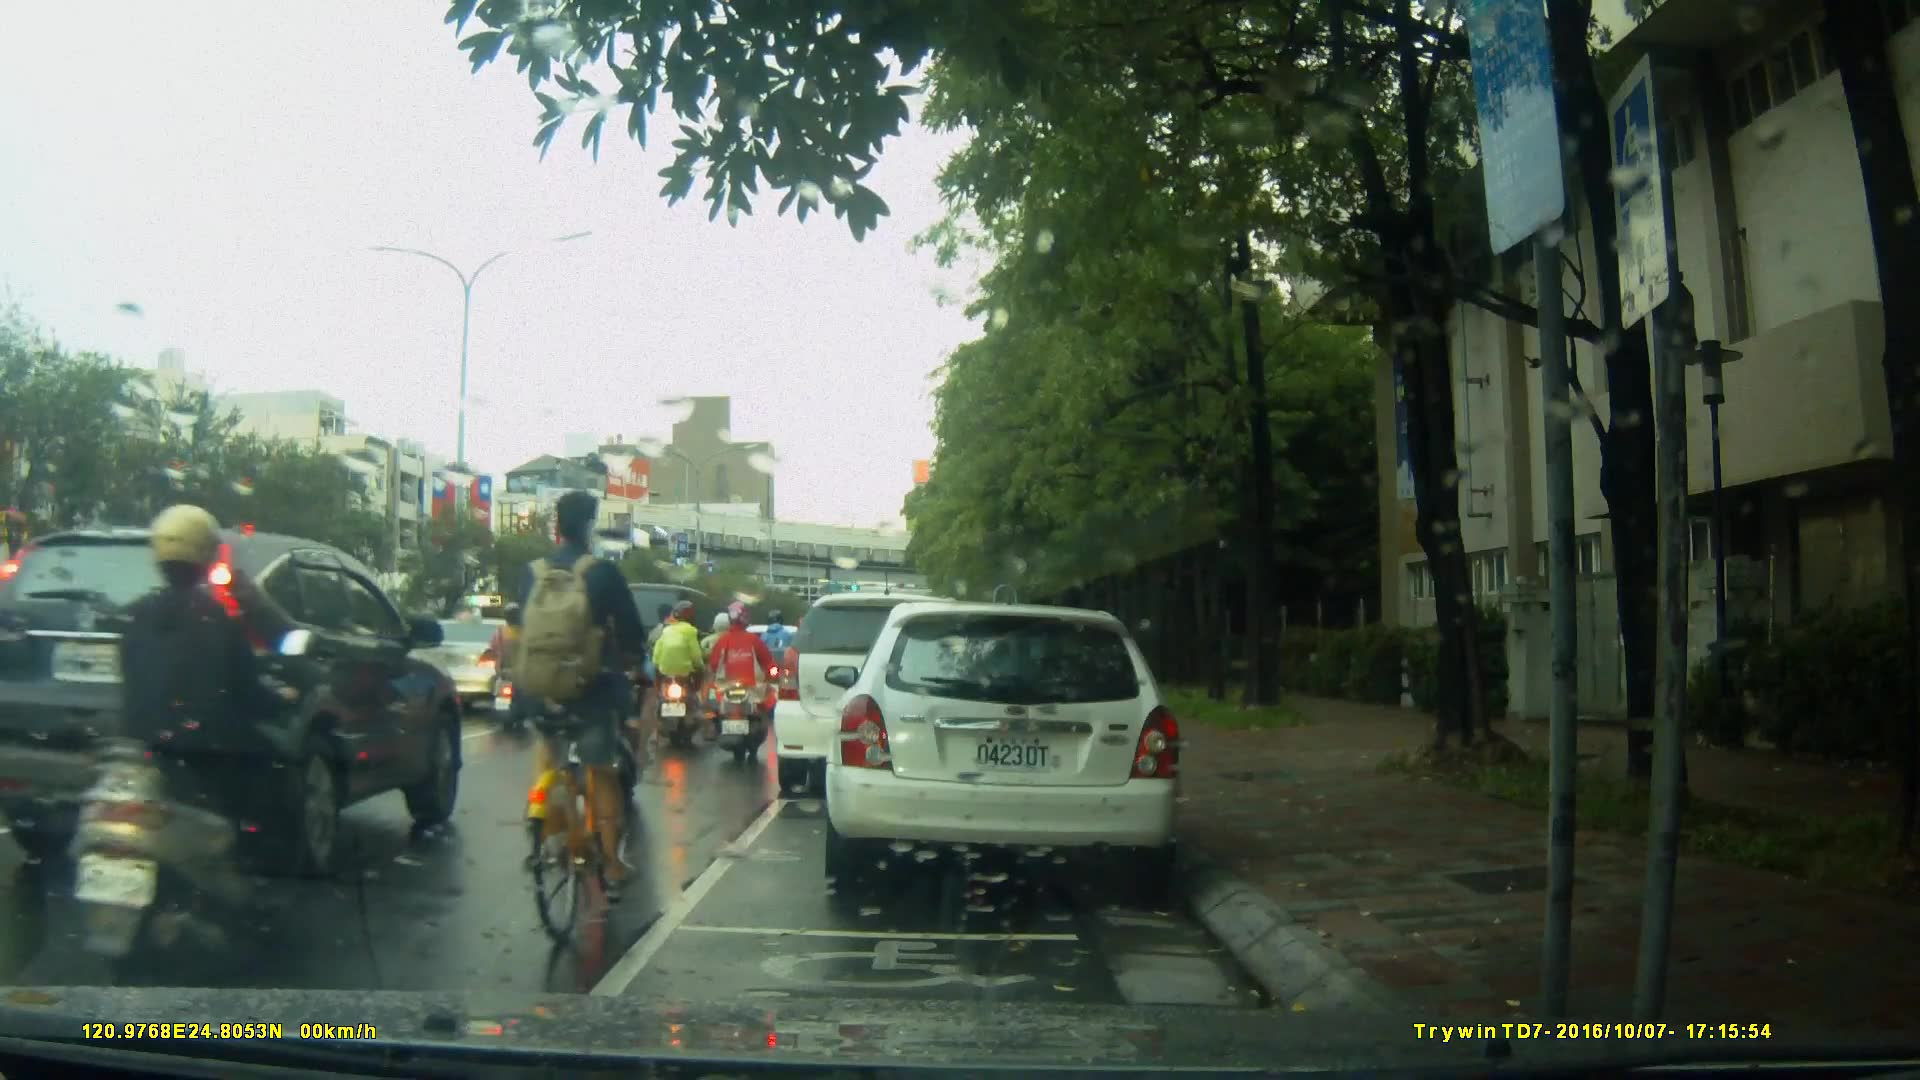rider: (76, 504, 321, 1020), (515, 492, 652, 953), (698, 600, 769, 764), (649, 601, 714, 750), (486, 606, 546, 725), (695, 609, 752, 724), (754, 604, 805, 726)
vehicle: (10, 522, 466, 873), (822, 604, 1188, 883), (774, 595, 995, 802), (347, 610, 545, 721)
